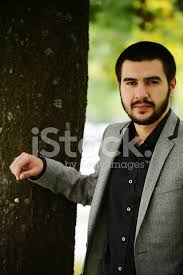middle_eastern_male: (116, 39, 179, 134)
